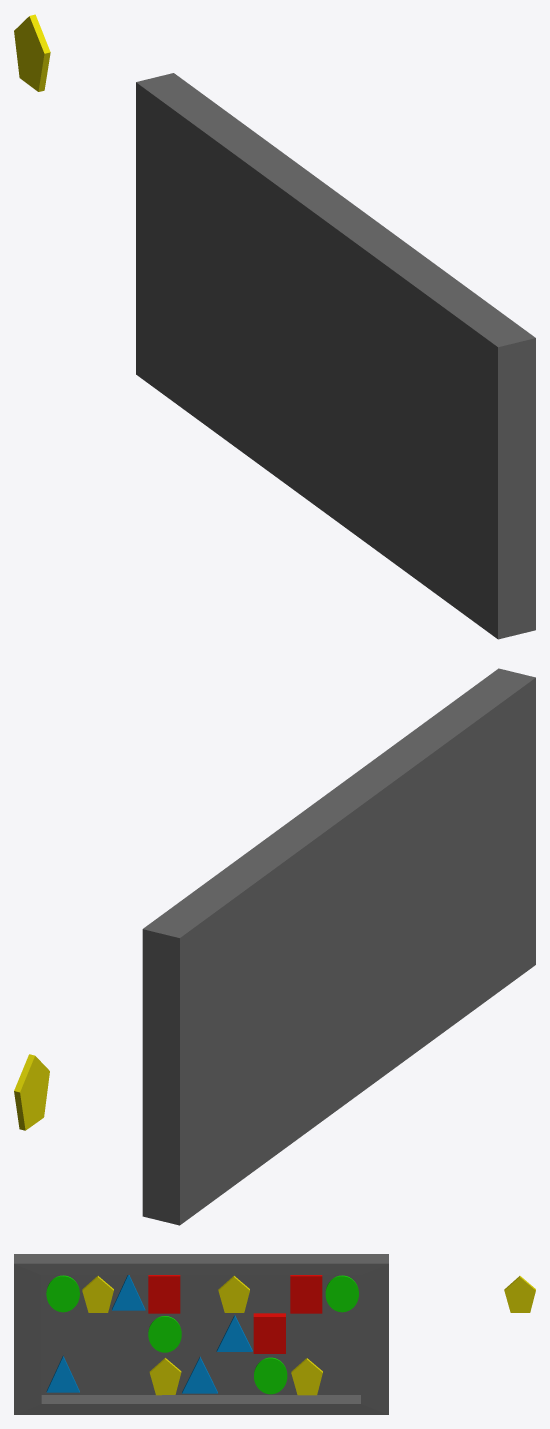
The model's file is Stage2Scene2Mozaic0.6.fbx.
The picture shows the model from 3 angles, top to bottom: view 1: azimuth 30°, elevation 25°; view 2: azimuth 150°, elevation 25°; view 3: azimuth 270°, elevation 25°; orthographic projection. The views are drawn at different scales.
Visible parts, largest first — view 1: Cube.002, Cylinder; view 2: Cube.002, Cylinder; view 3: Cube.002, Cylinder.
Boxes of the visible parts, x1,y1,x2,y2 form: Cube.002: (136, 73, 535, 639); Cylinder: (14, 14, 50, 91); Cube.002: (142, 668, 535, 1225); Cylinder: (14, 1054, 49, 1130); Cube.002: (14, 1254, 388, 1414); Cylinder: (504, 1276, 535, 1312).
Bounding box in the file's own units: 46.79 × 339 × 1062.
